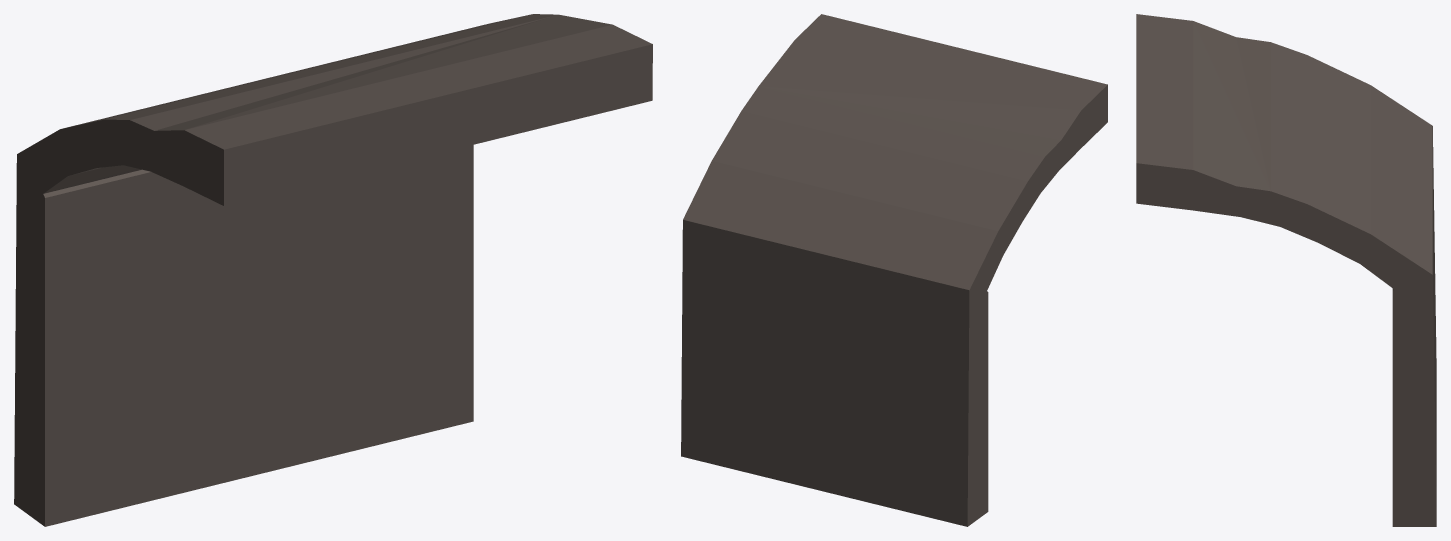
File: MCastle_TunnelWalls_04.FBX
The picture shows the model from 3 angles, left to right: view 1: azimuth 30°, elevation 25°; view 2: azimuth 150°, elevation 25°; view 3: azimuth 270°, elevation 25°; orthographic projection. The views are drawn at different scales.
Visible parts, largest first — view 1: MCastle_TunnelWalls_04_LOD0; view 2: MCastle_TunnelWalls_04_LOD0; view 3: MCastle_TunnelWalls_04_LOD0.
Boxes of the visible parts, bbox=[...] form: MCastle_TunnelWalls_04_LOD0: bbox=[14, 14, 652, 526]; MCastle_TunnelWalls_04_LOD0: bbox=[681, 14, 1107, 526]; MCastle_TunnelWalls_04_LOD0: bbox=[1136, 14, 1436, 526].
Bounding box in the file's own units: 4 × 4.54 × 3.39.
